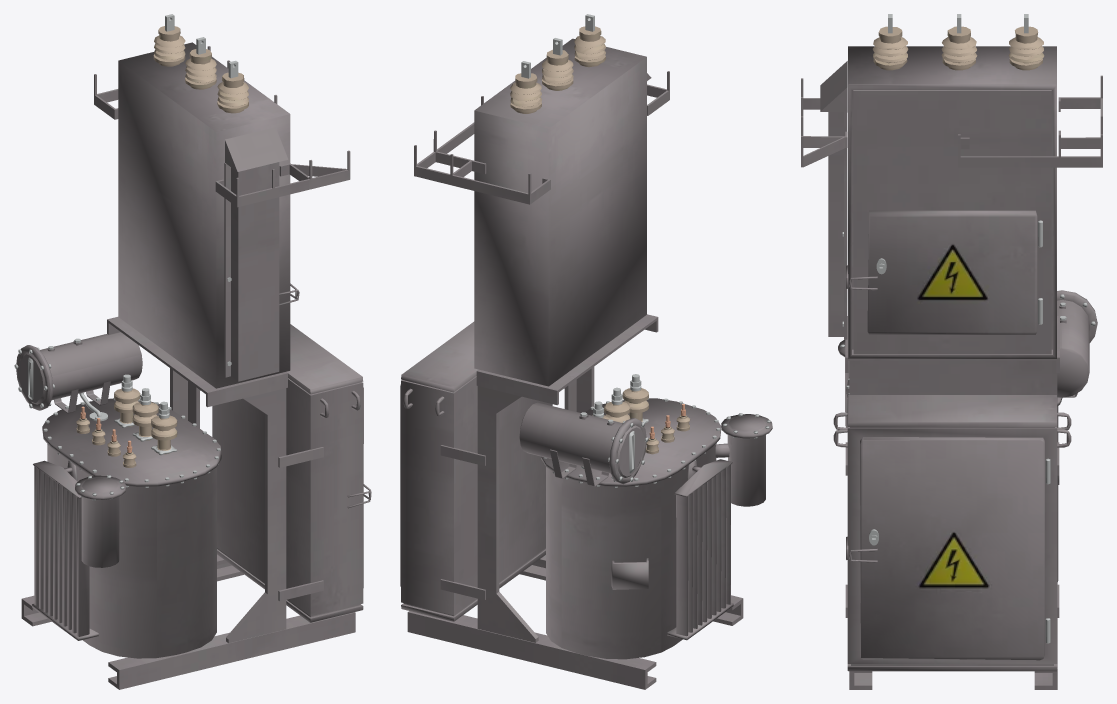
The model's file is substation.glb.
3 views of the same model, side by side, from view 1: azimuth 30°, elevation 25°; view 2: azimuth 150°, elevation 25°; view 3: azimuth 270°, elevation 25° (orthographic). The views are drawn at different scales.
Size of the model in its own units: 1.52 by 2.94 by 1.3.
5 materials, 2 textured.
